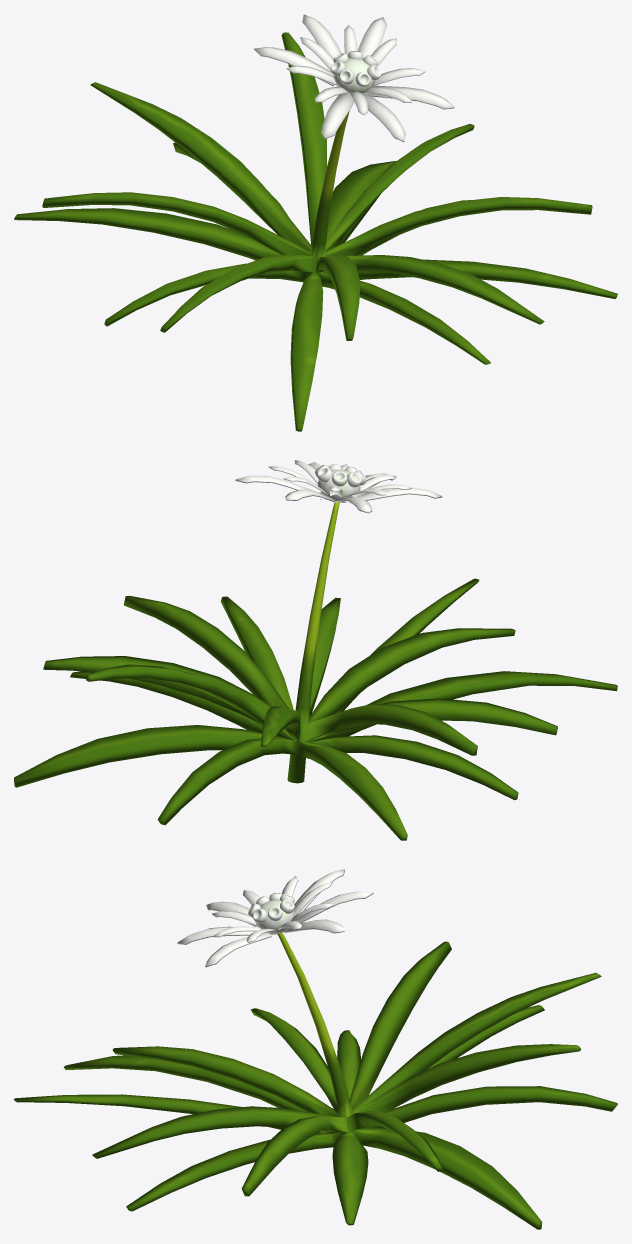
File: bunga edelweis.fbx
3 renders of one model, top to bottom at view 1: azimuth 30°, elevation 25°; view 2: azimuth 150°, elevation 25°; view 3: azimuth 270°, elevation 25°, orthographic. The views are drawn at different scales.
Visible parts, largest first — view 1: Cylinder.008, Plane.003, Plane.004, Plane.001, Plane.005, Plane, Plane.002, Cylinder; view 2: Cylinder.008, Plane.003; view 3: Cylinder.008, Cylinder, Plane.005, Plane, Plane.002, Plane.001.
Boxes of the visible parts, bbox=[...] form: Cylinder.008: bbox=[14, 32, 617, 431]; Plane.003: bbox=[321, 93, 354, 139]; Plane.004: bbox=[254, 47, 334, 86]; Plane.001: bbox=[363, 93, 405, 142]; Plane.005: bbox=[368, 85, 454, 109]; Plane: bbox=[302, 14, 341, 58]; Plane.002: bbox=[357, 17, 386, 58]; Cylinder: bbox=[333, 58, 374, 93]; Cylinder.008: bbox=[14, 502, 617, 840]; Plane.003: bbox=[357, 487, 442, 500]; Cylinder.008: bbox=[14, 932, 617, 1229]; Cylinder: bbox=[255, 899, 294, 934]; Plane.005: bbox=[205, 932, 271, 967]; Plane: bbox=[296, 891, 373, 923]; Plane.002: bbox=[284, 919, 344, 933]; Plane.001: bbox=[177, 926, 255, 944].
Bounding box in the file's own units: 108 × 65.34 × 131.
